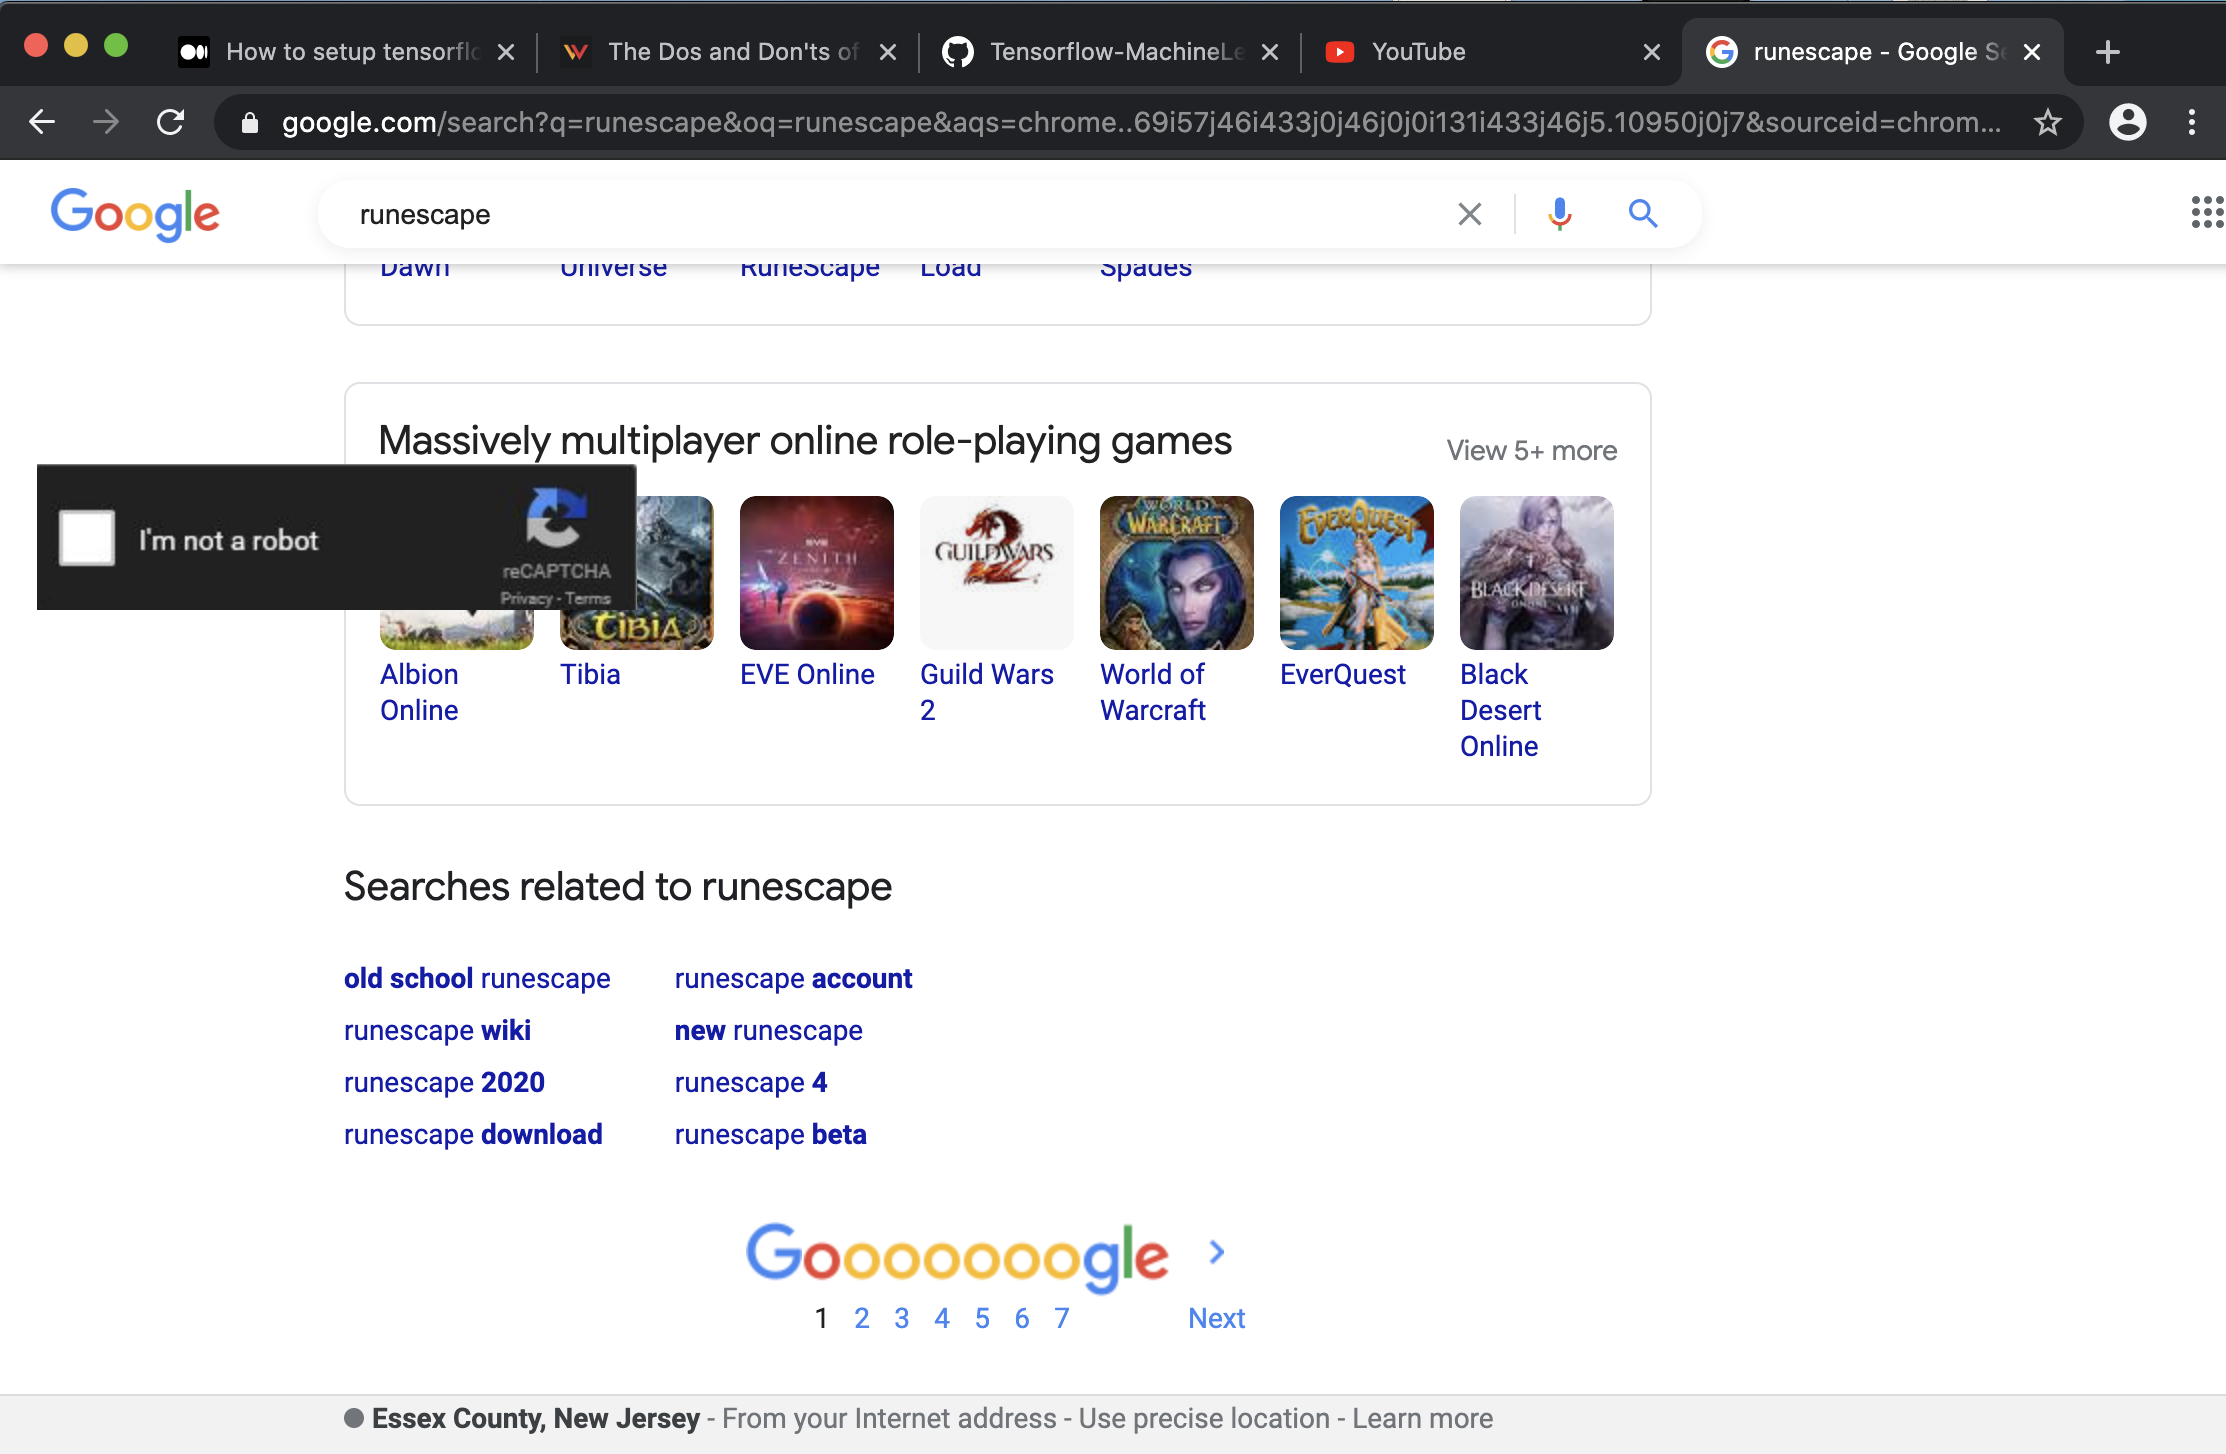captcha: (26, 456, 664, 633)
